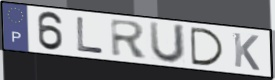6: (36, 11, 65, 53)
D: (188, 26, 227, 68)
K: (231, 31, 261, 73)
L: (75, 15, 105, 55)
R: (109, 18, 150, 60)
U: (148, 20, 187, 66)
